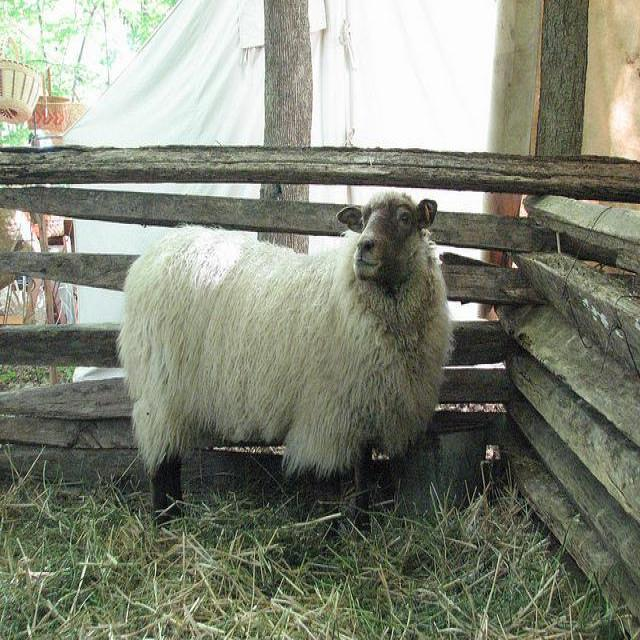Sheep: (117, 191, 454, 537)
